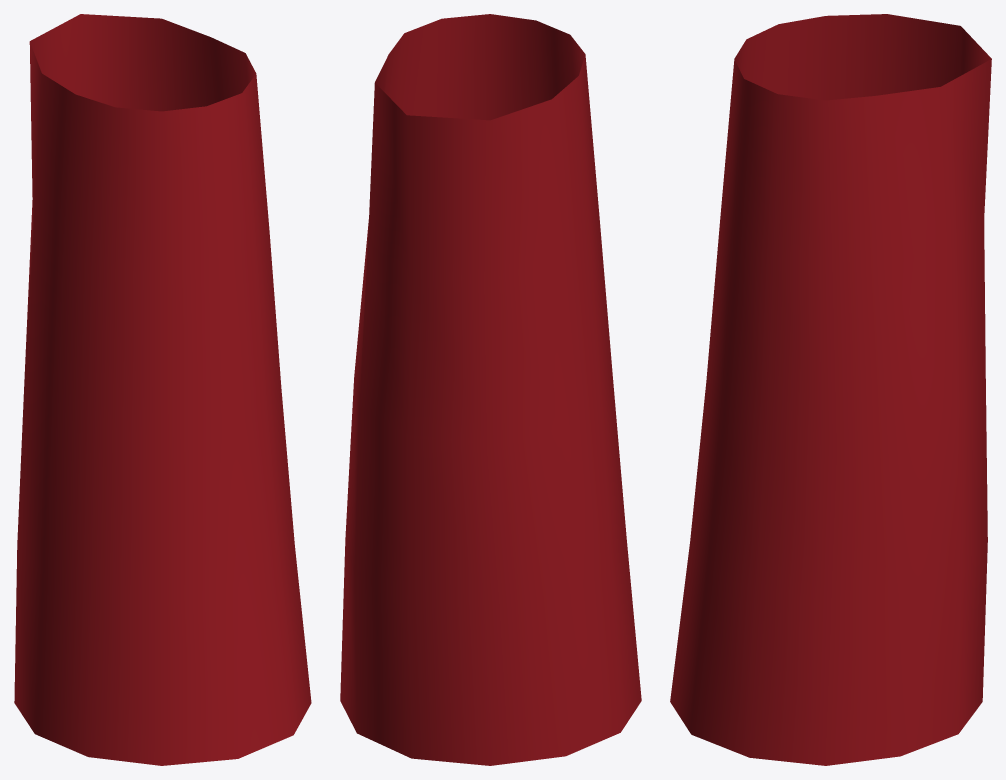
The model's file is santa_costume_greave.L.glb.
3 views of the same model, side by side, from view 1: azimuth 30°, elevation 25°; view 2: azimuth 150°, elevation 25°; view 3: azimuth 270°, elevation 25° (orthographic). The views are drawn at different scales.
Parts seen in each view (by area): view 1: santa_costume_greave.L; view 2: santa_costume_greave.L; view 3: santa_costume_greave.L.
Boxes of the visible parts, x1=… form: santa_costume_greave.L: x1=14, y1=14, x2=311, y2=765; santa_costume_greave.L: x1=340, y1=14, x2=641, y2=765; santa_costume_greave.L: x1=670, y1=14, x2=991, y2=765.
Size of the model in its own units: 0.1601 by 0.3767 by 0.1708.
